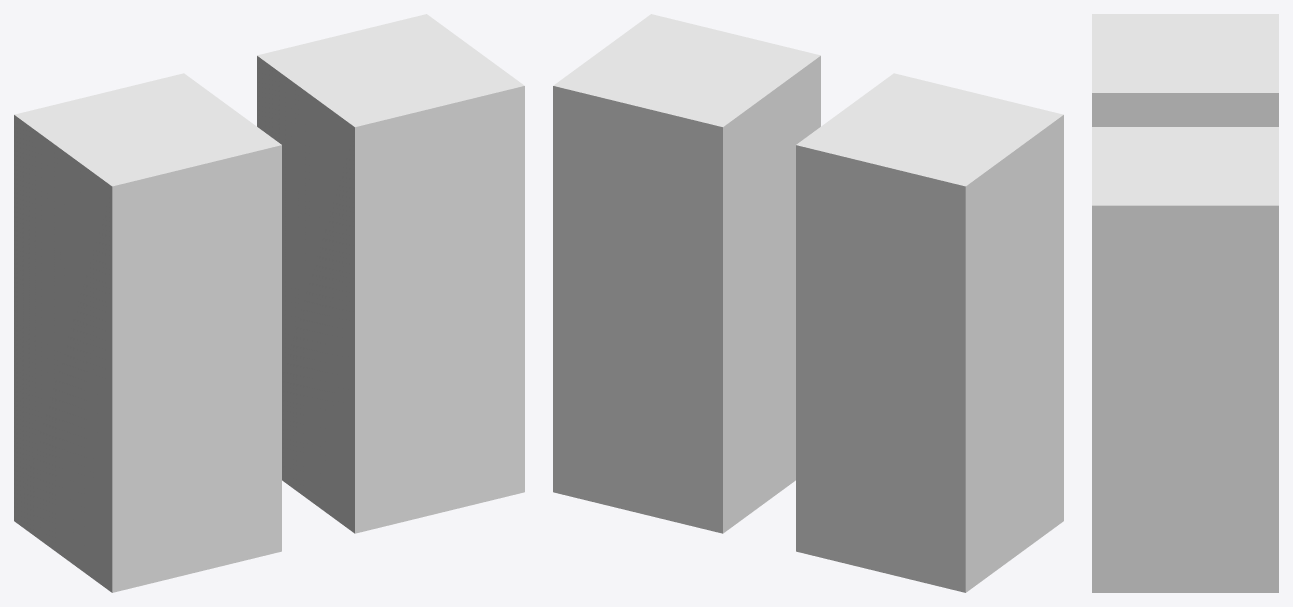
The model's file is duckov_barrel_stack.obj.
3 renders of one model, left to right at view 1: azimuth 30°, elevation 25°; view 2: azimuth 150°, elevation 25°; view 3: azimuth 270°, elevation 25°, orthographic. The views are drawn at different scales.
Visible parts, largest first — view 1: OilDrumStack; view 2: OilDrumStack; view 3: OilDrumStack.
Boxes of the visible parts, x1=… form: OilDrumStack: x1=14, y1=14, x2=524, y2=592; OilDrumStack: x1=553, y1=14, x2=1063, y2=592; OilDrumStack: x1=1092, y1=14, x2=1278, y2=592.
Bounding box in the file's own units: 1.7 × 1.6 × 0.7.
Materials: 2 (2 with a texture image).
